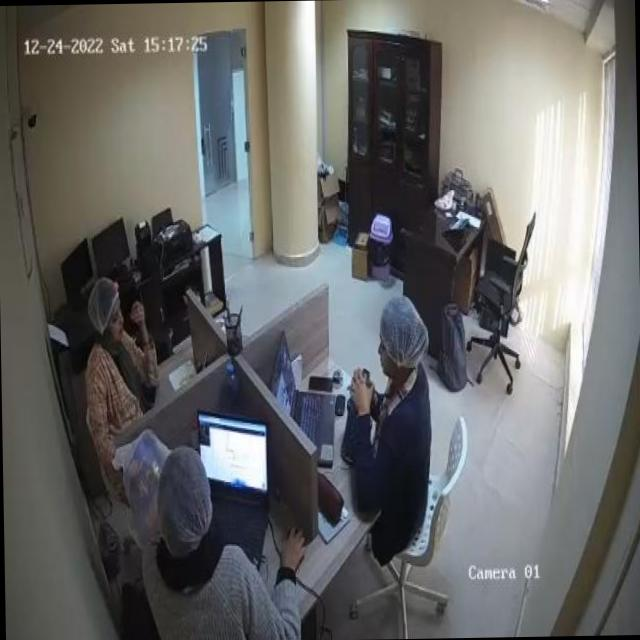hairnet: (160, 449, 210, 536), (379, 297, 426, 360), (86, 278, 116, 330)
